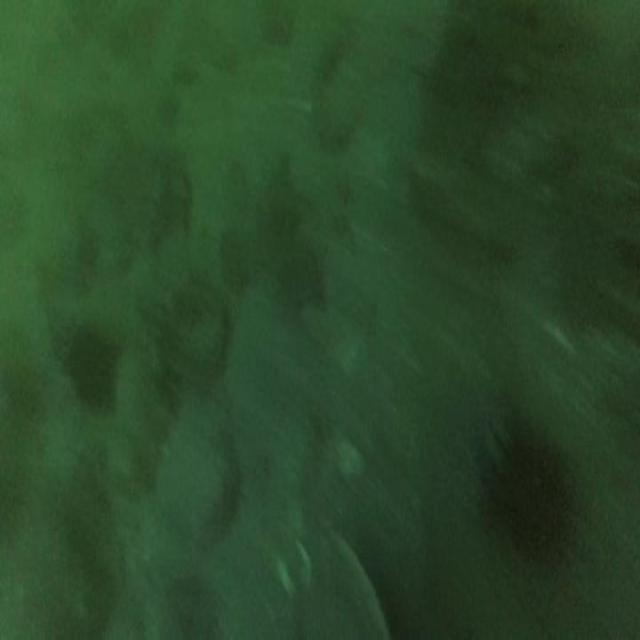echinus: (508, 446, 570, 567), (66, 335, 114, 406)
